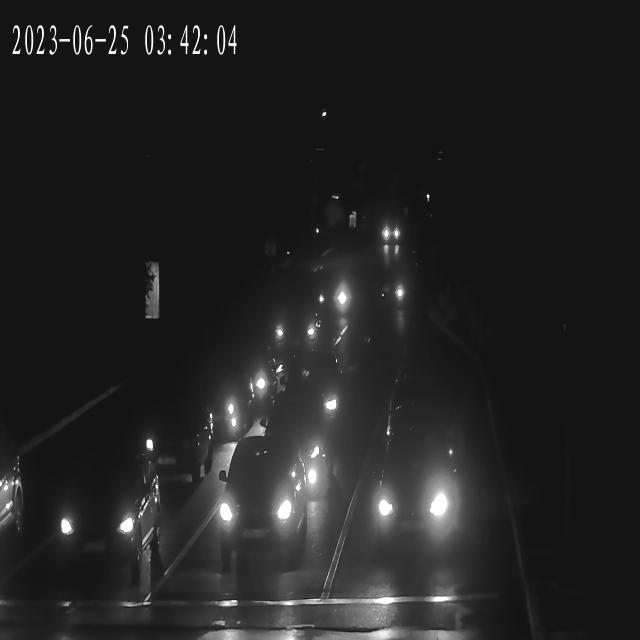Car: (16, 442, 158, 574), (208, 442, 312, 566), (125, 392, 216, 492), (360, 454, 457, 546), (275, 346, 345, 455), (207, 341, 280, 409), (0, 439, 28, 560), (270, 304, 328, 354), (312, 277, 356, 317), (381, 271, 406, 319), (382, 210, 402, 246)
